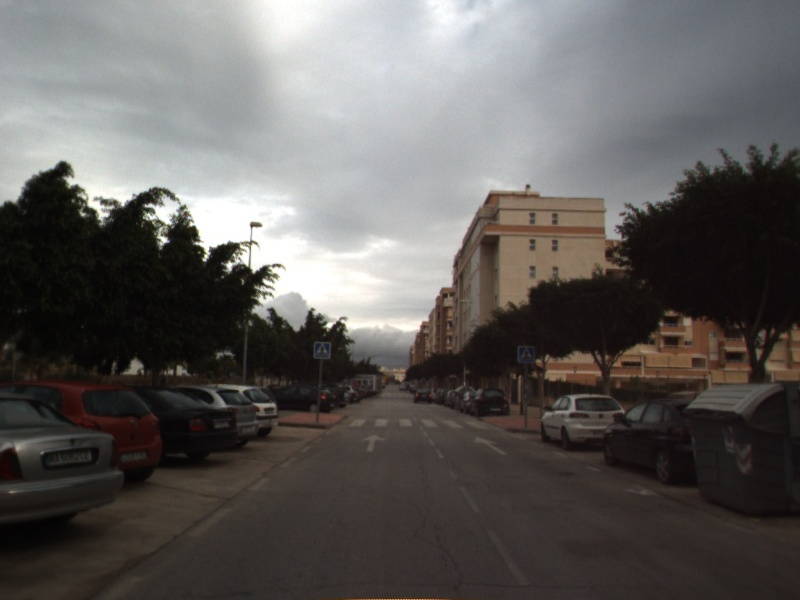STRAIGHT: (471, 434, 510, 457), (359, 432, 388, 453)
